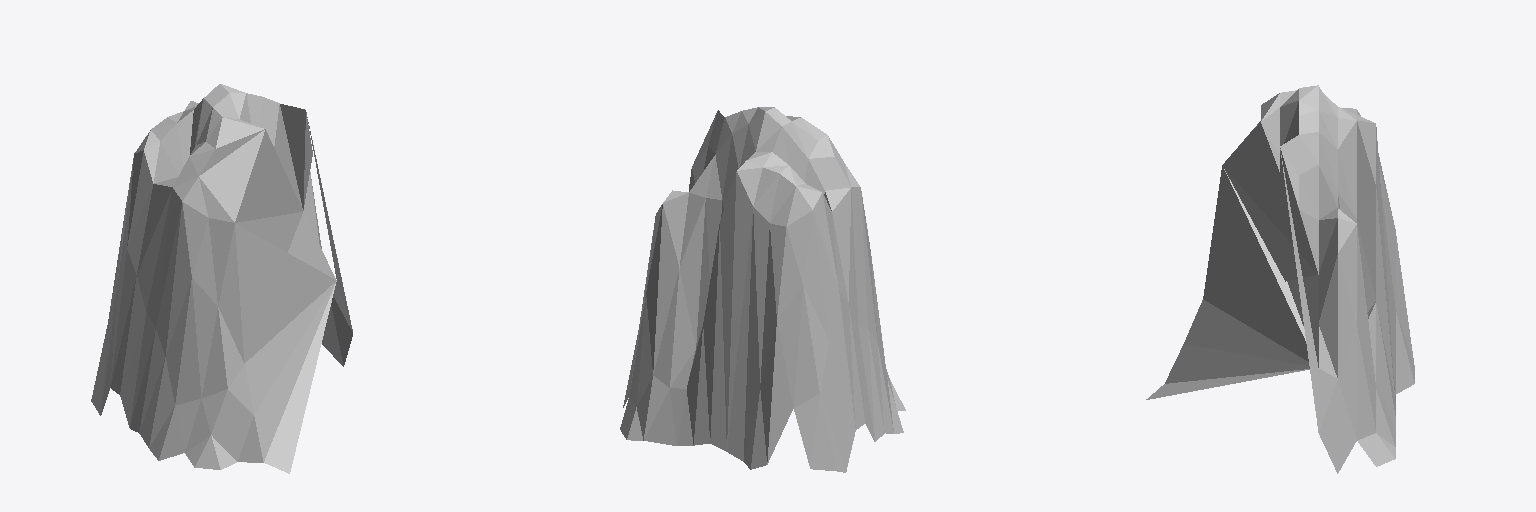
The model's file is tree_45.obj.
3 views of the same model, side by side, from view 1: azimuth 30°, elevation 25°; view 2: azimuth 150°, elevation 25°; view 3: azimuth 270°, elevation 25° (orthographic).
Visible parts, largest first — view 1: tree_45.001; view 2: tree_45.001; view 3: tree_45.001.
Part boxes in pixels (bbox=[...]): tree_45.001: bbox=[91, 84, 352, 473]; tree_45.001: bbox=[620, 107, 905, 472]; tree_45.001: bbox=[1146, 85, 1414, 473].
Size of the model in its own units: 14 by 18.64 by 14.